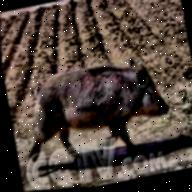boar: (2, 46, 191, 176)
